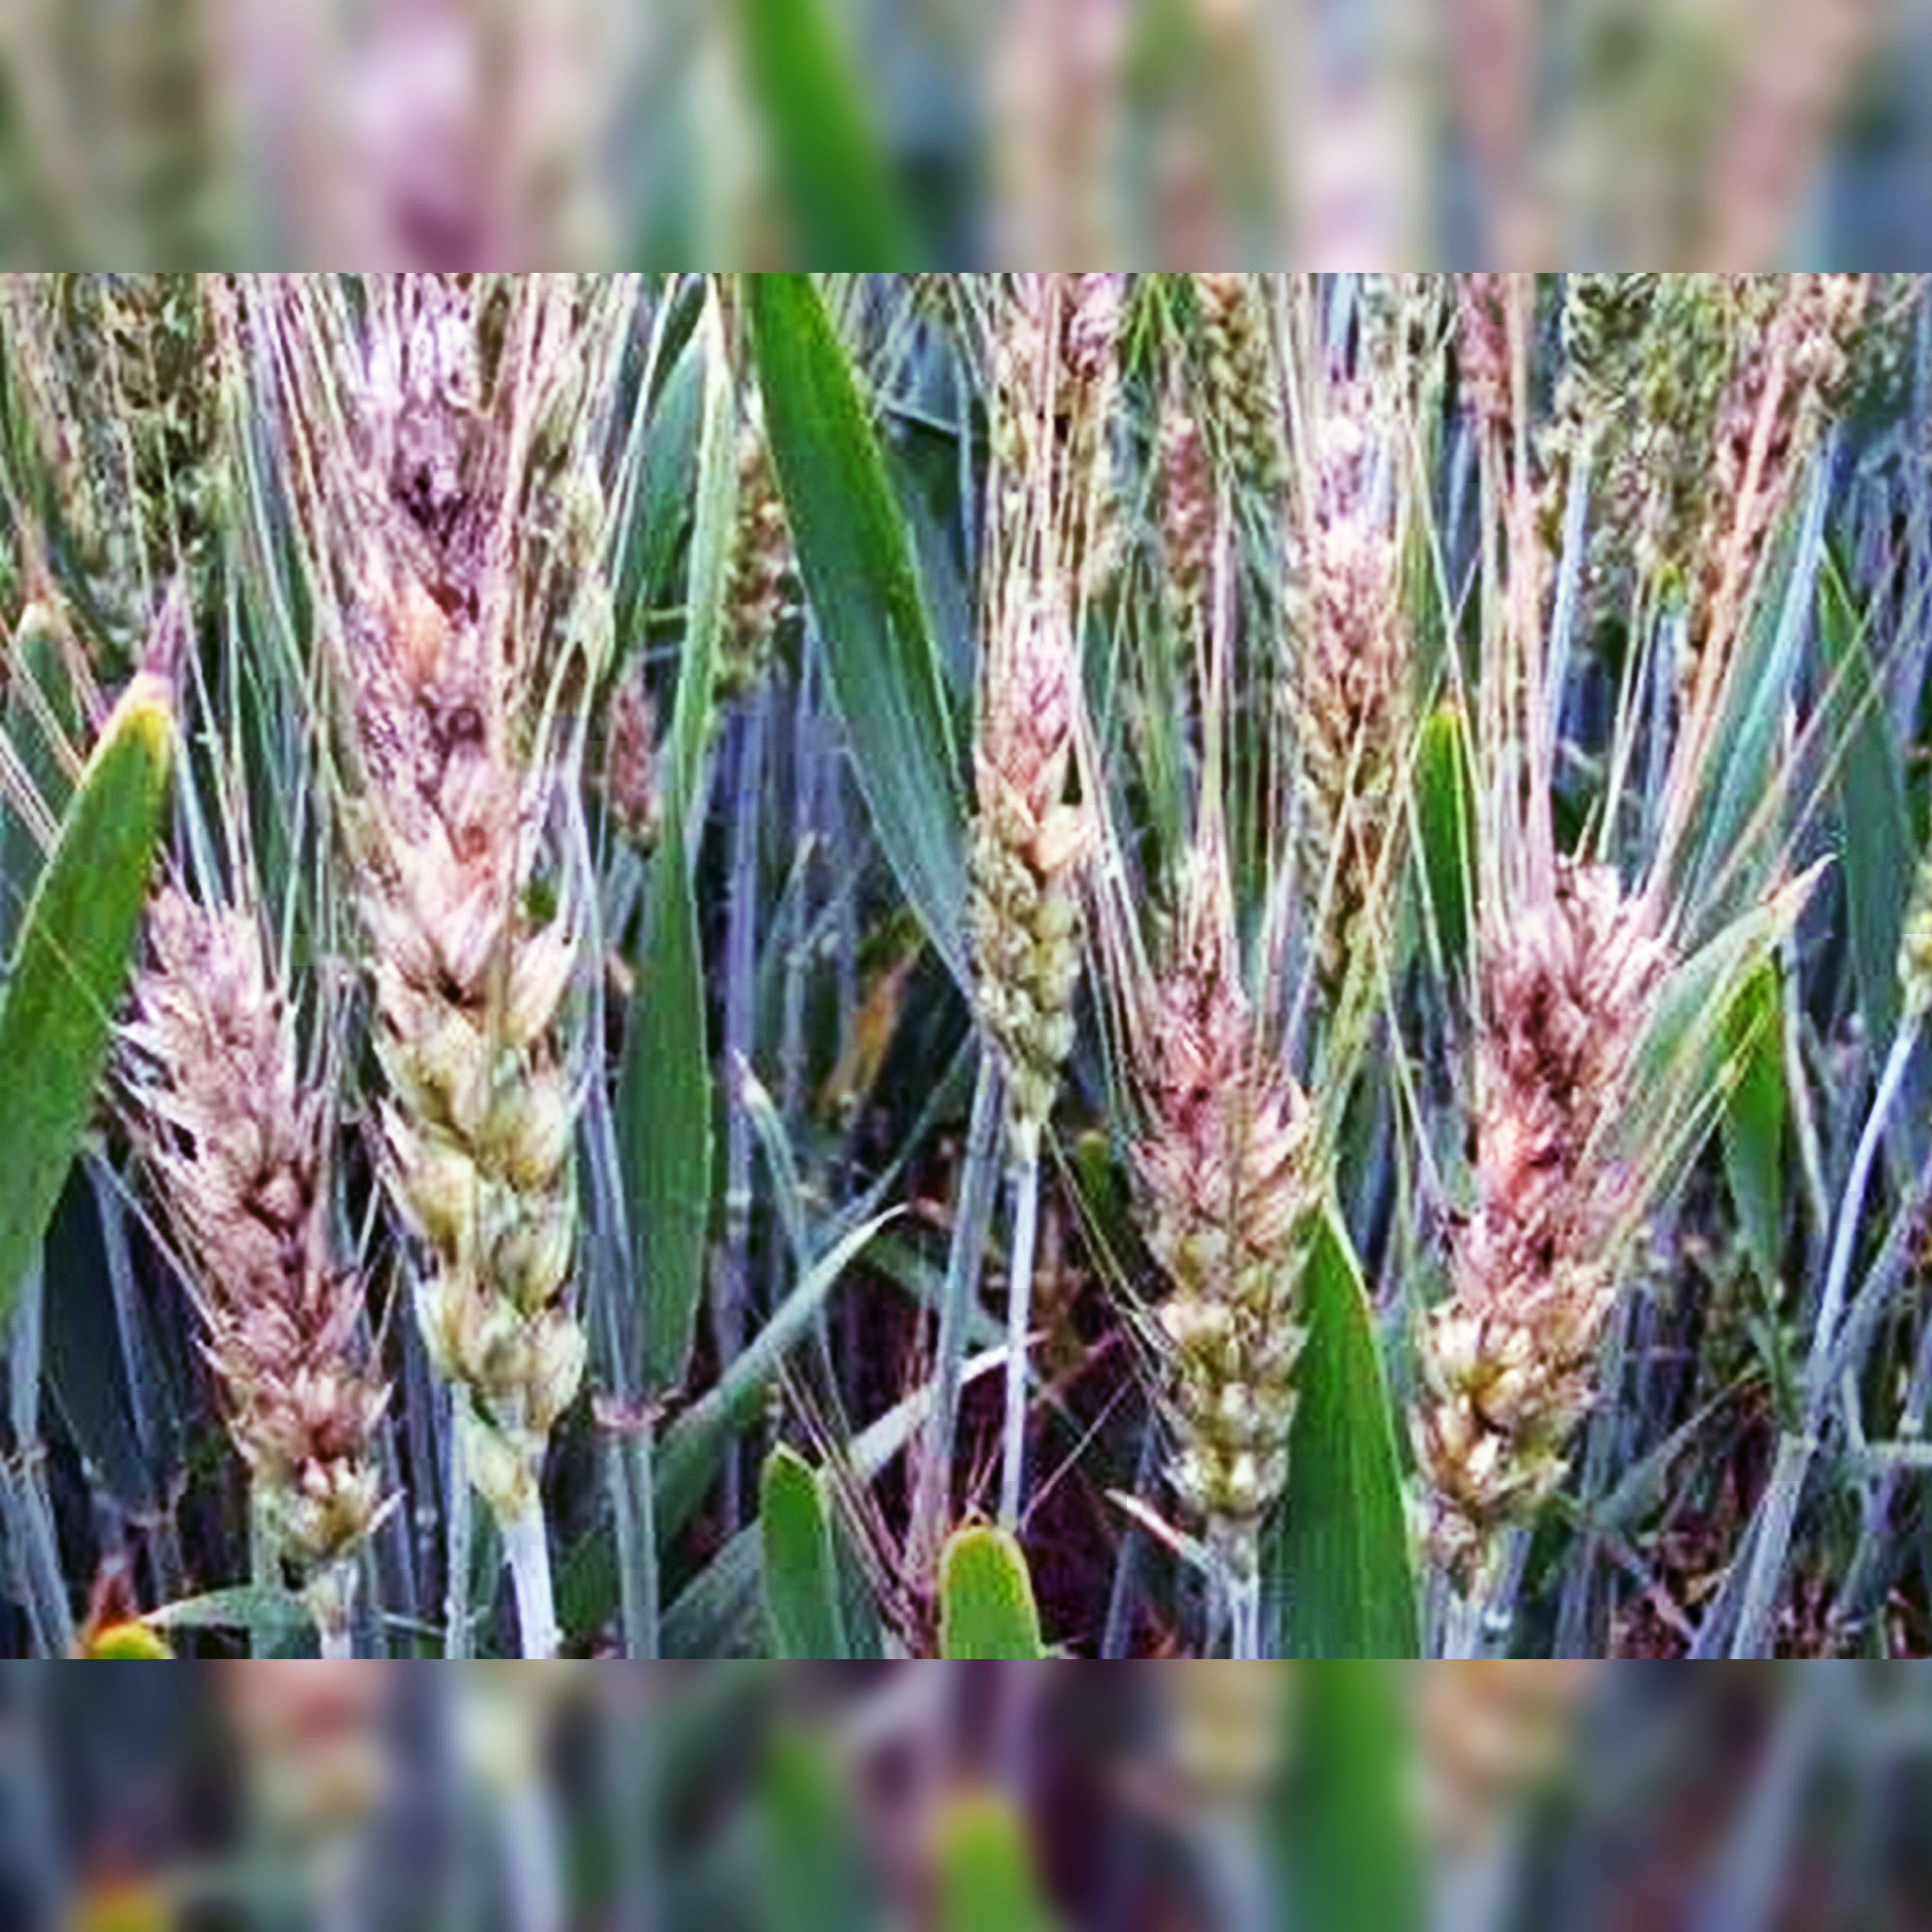Wheat scab: (1405, 856, 1700, 1566), (120, 911, 389, 1559), (1116, 948, 1332, 1467), (924, 596, 1093, 1148)
